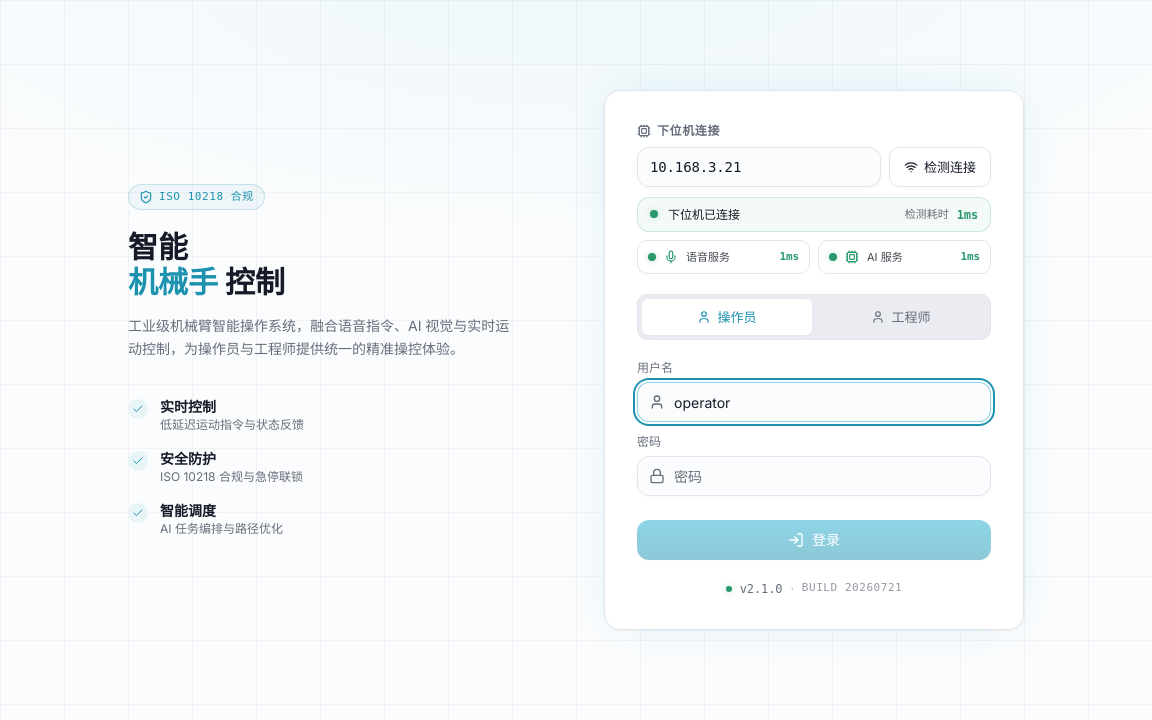
App layout › localizes the Automations surface
Replace the text in the field with placeholder "用户名" with "engineer" at {"x": 814, "y": 402}, box [637, 382, 991, 422]
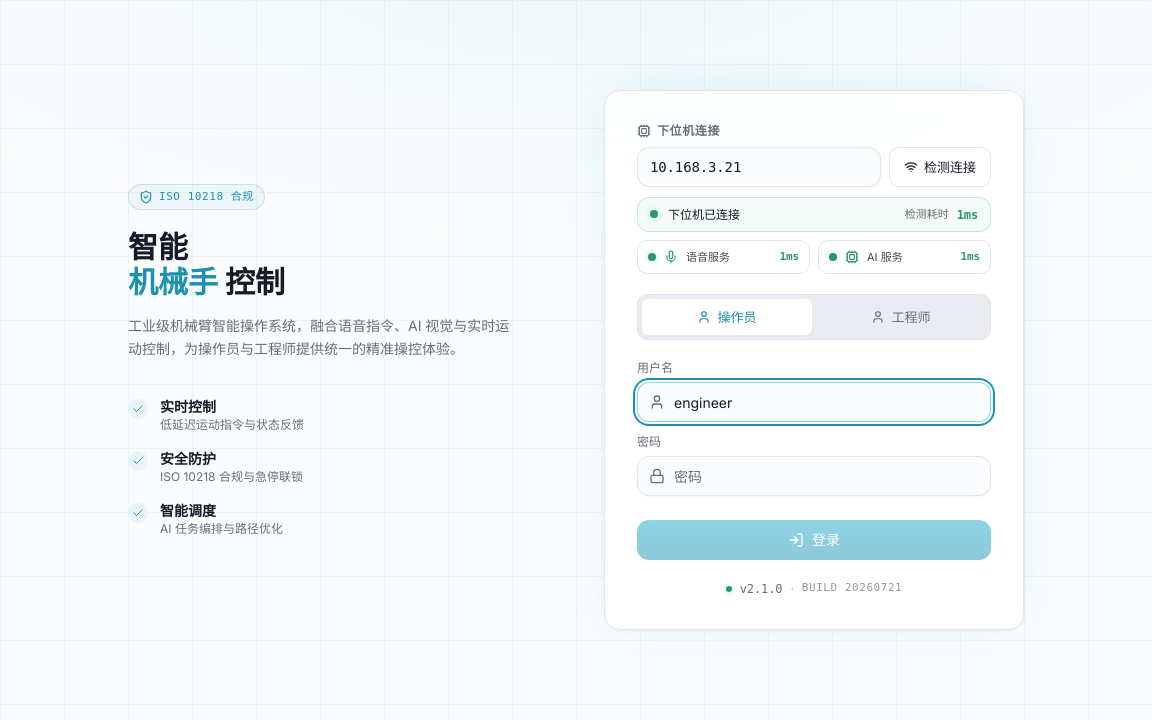
Type "pass" into the password field with placeholder "密码".
click(814, 476); type("pass")  # box [637, 456, 991, 496]
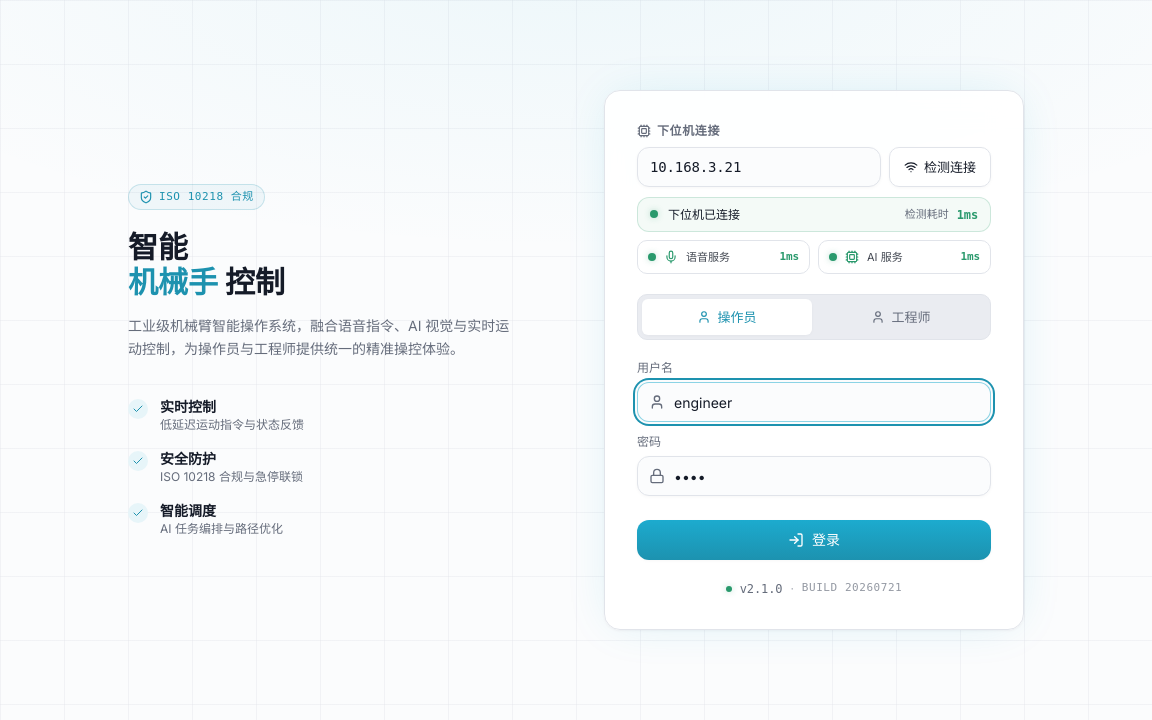
Click the submit button.
click(814, 540)  # box [637, 520, 991, 560]
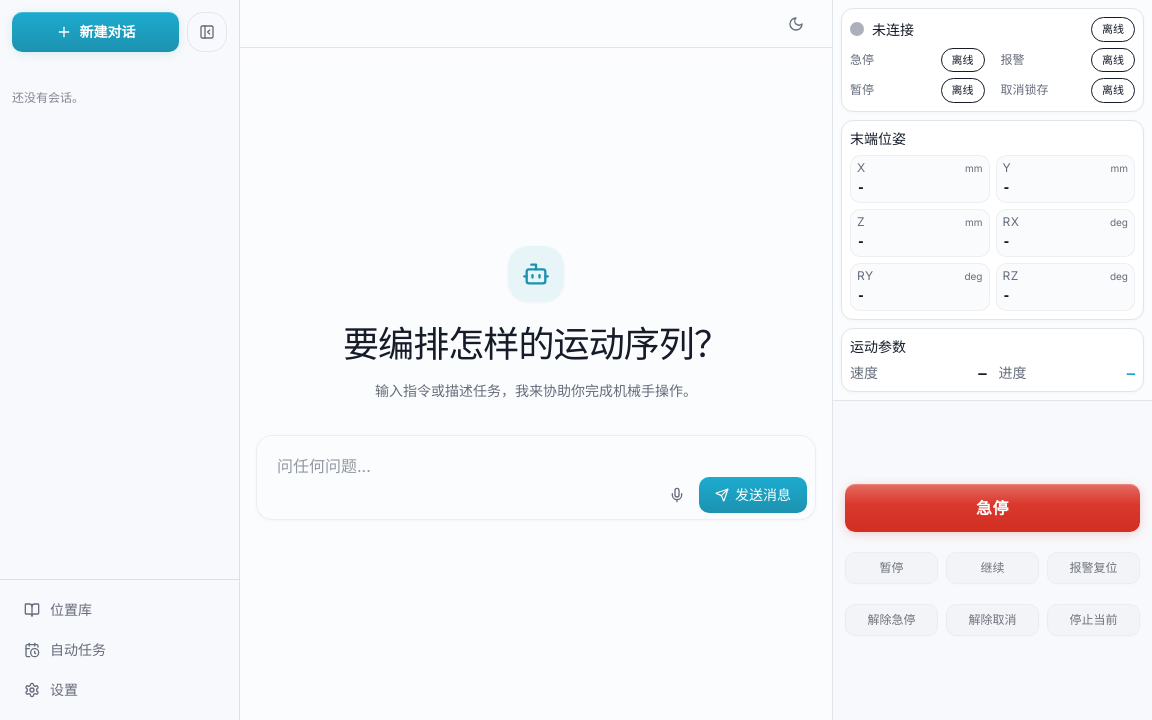
Click the button "自动任务".
click(120, 650)  # box [12, 632, 227, 668]
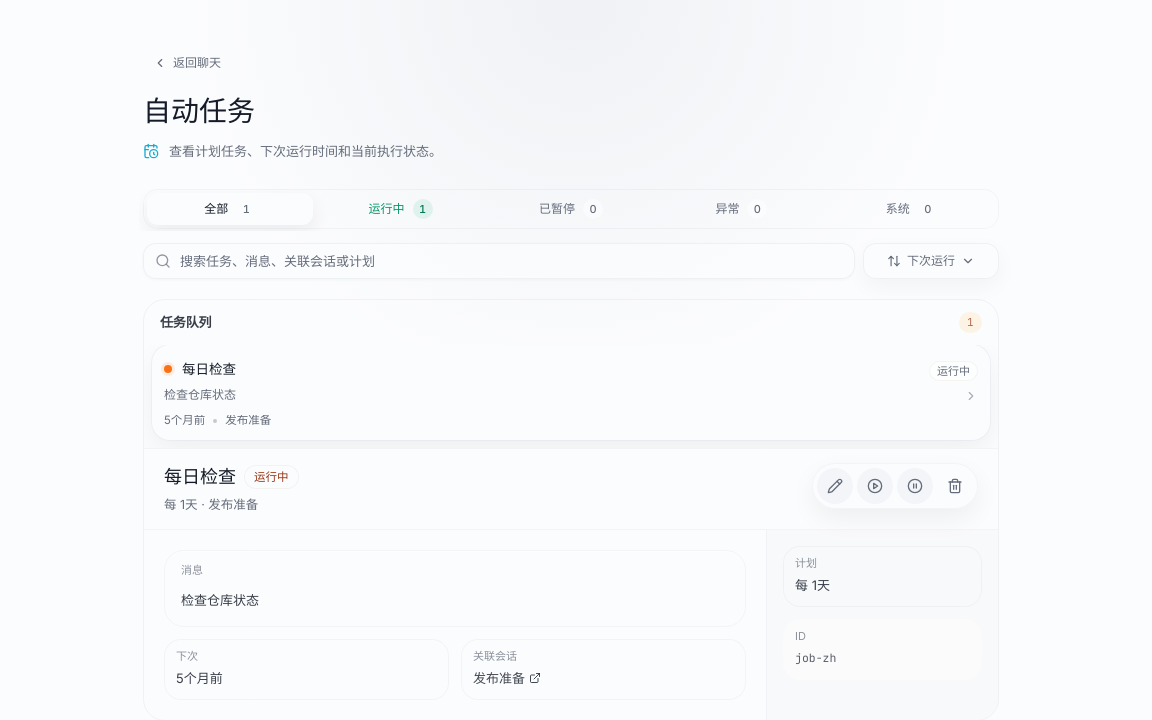
Expected: the heading "自动任务" is shown, [143, 94, 255, 128]
Expected: the element "自动任务" is shown
Expected: the button "设置" is gone
